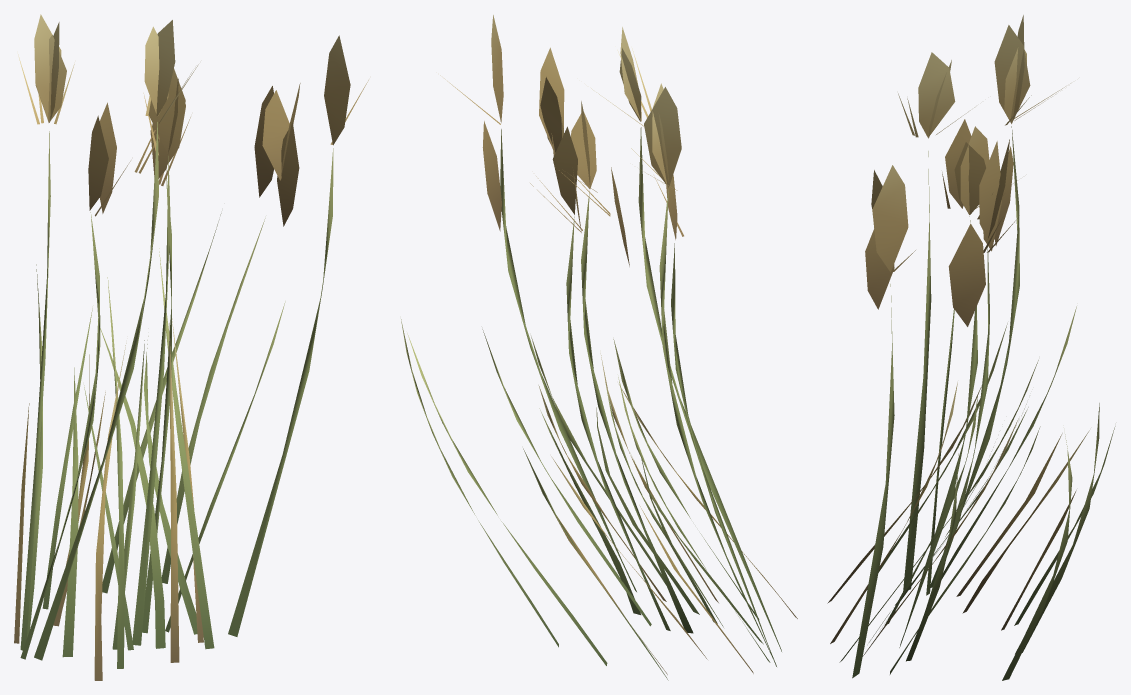
File: FeatherGrassClump_LOD0.glb
The picture shows the model from 3 angles, left to right: view 1: azimuth 30°, elevation 25°; view 2: azimuth 150°, elevation 25°; view 3: azimuth 270°, elevation 25°; orthographic projection. The views are drawn at different scales.
Parts seen in each view (by area): view 1: FeatherGrassClump_LOD0; view 2: FeatherGrassClump_LOD0; view 3: FeatherGrassClump_LOD0.
Part boxes in pixels (left/top/right/bottom): FeatherGrassClump_LOD0: left=14, top=14, right=368, bottom=680; FeatherGrassClump_LOD0: left=401, top=15, right=797, bottom=680; FeatherGrassClump_LOD0: left=827, top=15, right=1115, bottom=680.
Size of the model in its own units: 0.3261 by 0.5439 by 0.2299.
